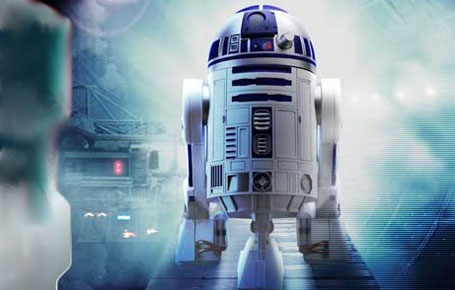r2d2: (176, 4, 349, 290)
